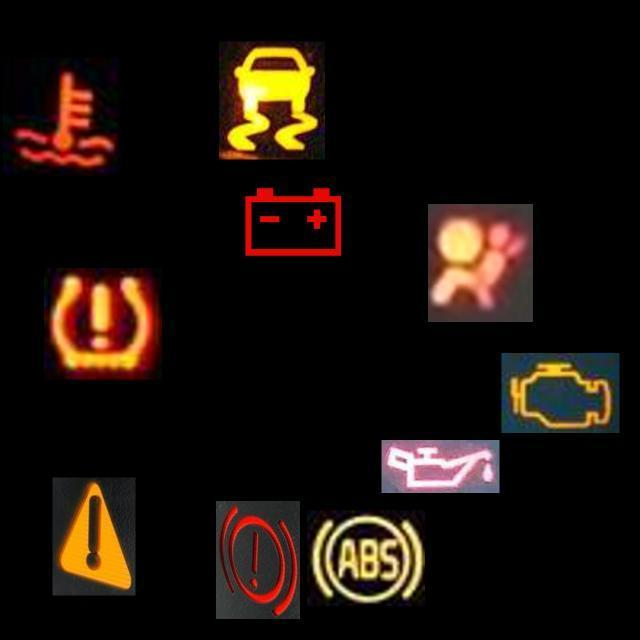Central Warning lamp: (52, 478, 136, 596)
Engine cooling system: (3, 58, 121, 176)
